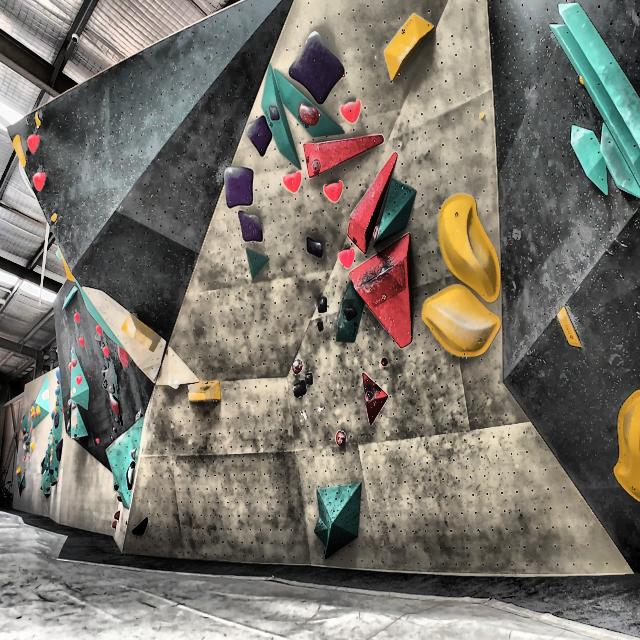Hold: (440, 189, 509, 302), (352, 236, 415, 354), (422, 284, 499, 374), (346, 152, 398, 255), (379, 13, 441, 84), (287, 30, 346, 104), (308, 125, 384, 182), (609, 374, 640, 504), (550, 294, 585, 350), (358, 372, 390, 427), (222, 162, 260, 206), (245, 114, 277, 161), (125, 318, 163, 356), (185, 378, 226, 410), (238, 211, 270, 249), (295, 231, 322, 262), (340, 94, 362, 128), (10, 134, 28, 173), (282, 171, 304, 200), (300, 104, 324, 128), (263, 101, 289, 121), (105, 388, 121, 418), (322, 183, 344, 203), (337, 250, 356, 270), (123, 460, 135, 490), (132, 519, 150, 539), (332, 431, 354, 447), (30, 172, 46, 193), (292, 380, 309, 399), (318, 294, 331, 318), (25, 136, 44, 150), (118, 345, 130, 367), (290, 357, 304, 375), (56, 436, 66, 461), (304, 370, 315, 388), (68, 310, 82, 322), (54, 368, 63, 386), (29, 404, 37, 420), (100, 344, 108, 359), (77, 337, 86, 349), (55, 408, 60, 429), (94, 322, 101, 336), (36, 406, 44, 418), (22, 428, 28, 441), (74, 377, 84, 384), (70, 360, 80, 366), (30, 441, 36, 451), (54, 388, 61, 396)
